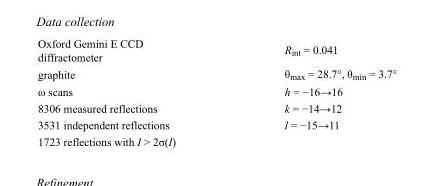table: (37, 36, 396, 147)
table column: (37, 36, 229, 147), (229, 36, 396, 147)
table row: (37, 36, 396, 64), (37, 64, 396, 82), (37, 82, 396, 99), (37, 99, 396, 116), (37, 116, 396, 132), (37, 132, 396, 147)
